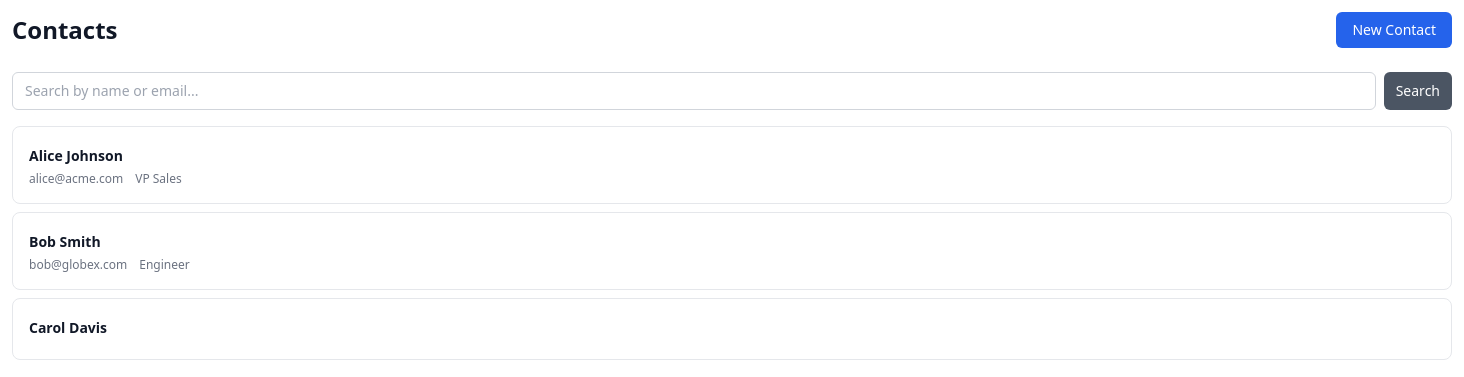
ContactsPage — search › searching by name filters results
Check: the link "Alice Johnson" is shown, box [29, 146, 123, 165]
Type "Alice" into the field named "search contacts" at (694, 91), box [12, 72, 1376, 110]
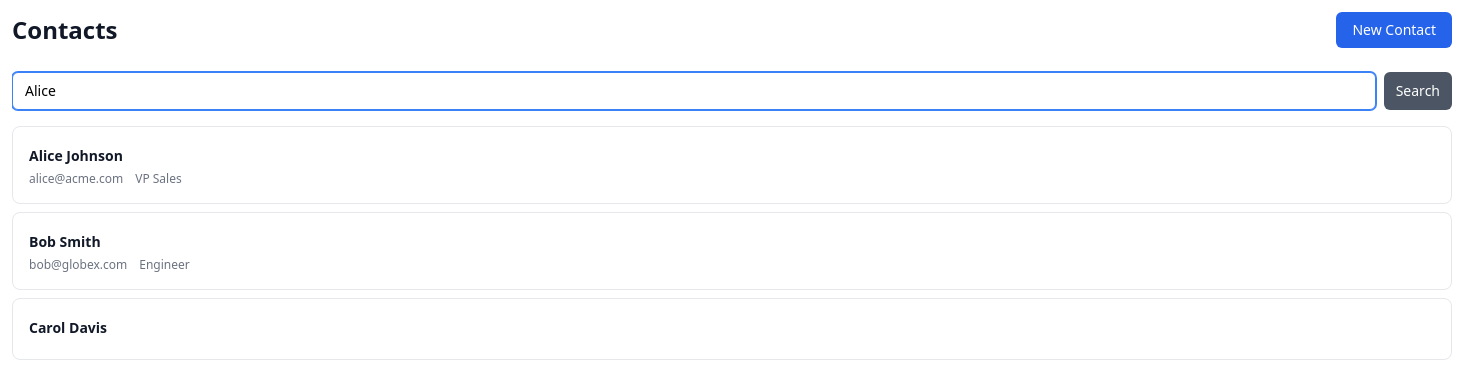
Click the button "Search" at (1418, 91), box [1384, 72, 1452, 110]
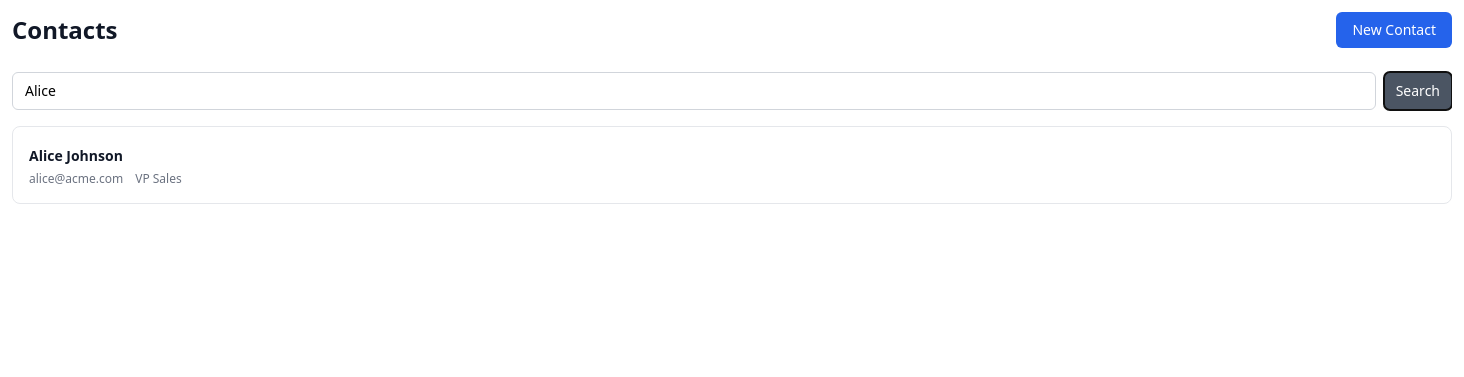
Check: the link "Alice Johnson" is shown, box [29, 146, 123, 165]
Check: the link "Bob Smith" is gone
